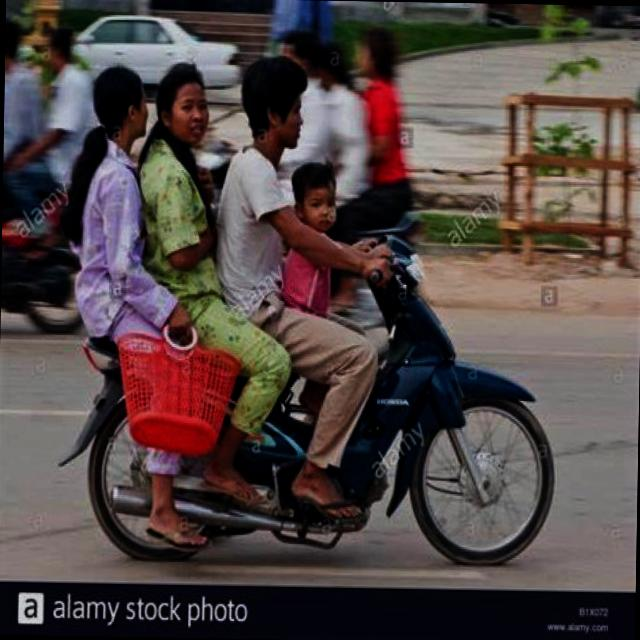motorcycle: (54, 228, 563, 574)
person: (69, 59, 216, 360), (213, 49, 321, 396), (138, 56, 251, 387), (282, 158, 367, 423)
rider_region: (66, 51, 566, 578)
